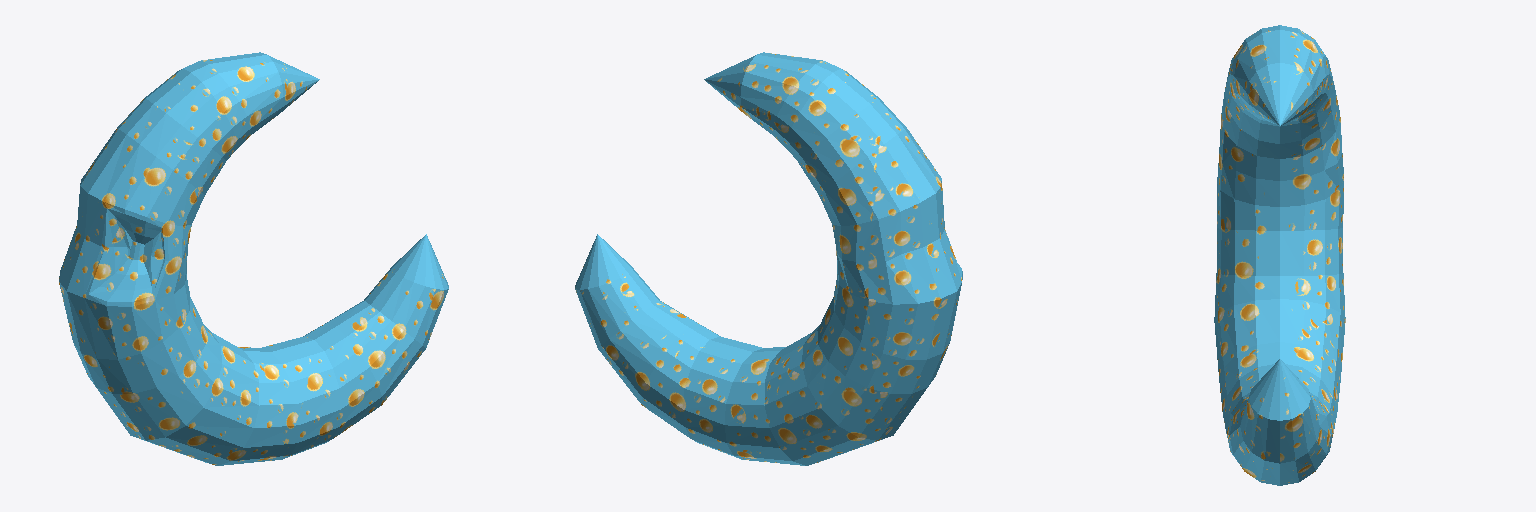
3 views of the same model, side by side, from view 1: azimuth 30°, elevation 25°; view 2: azimuth 150°, elevation 25°; view 3: azimuth 270°, elevation 25° (orthographic).
Visible parts, largest first — view 1: Moon; view 2: Moon; view 3: Moon.
Part boxes in pixels (left/top/right/bottom): Moon: left=59, top=52, right=448, bottom=465; Moon: left=575, top=52, right=962, bottom=465; Moon: left=1214, top=25, right=1345, bottom=485.
Bounding box in the file's own units: 154 × 158 × 46.15.
Materials: 1 (1 with a texture image).